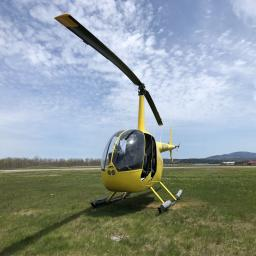helicopter: (48, 23, 188, 220)
